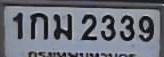1: (12, 12, 22, 38)
2: (80, 13, 96, 40)
3: (100, 14, 115, 40), (119, 14, 134, 40)
9: (138, 15, 153, 41)
A01: (29, 12, 47, 39)
A33: (53, 12, 71, 38)
